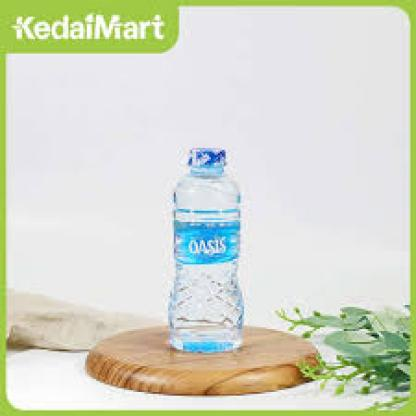Glass Bottle: (165, 145, 248, 357)
